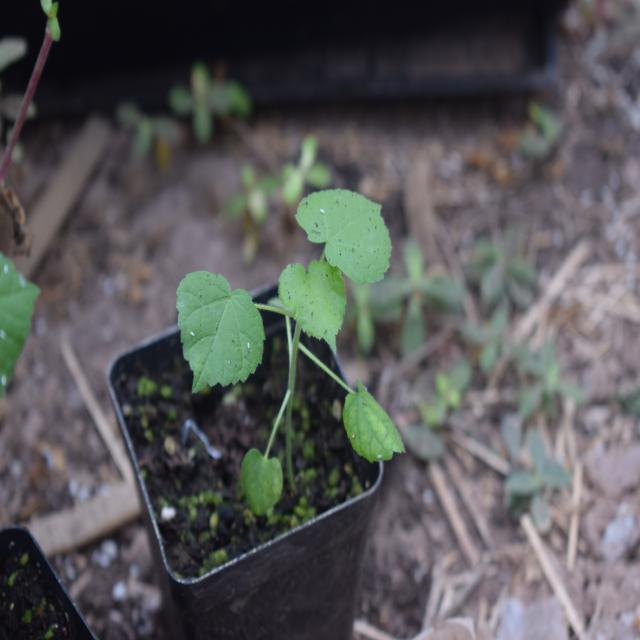abutilon theophrasti: (160, 173, 406, 484)
